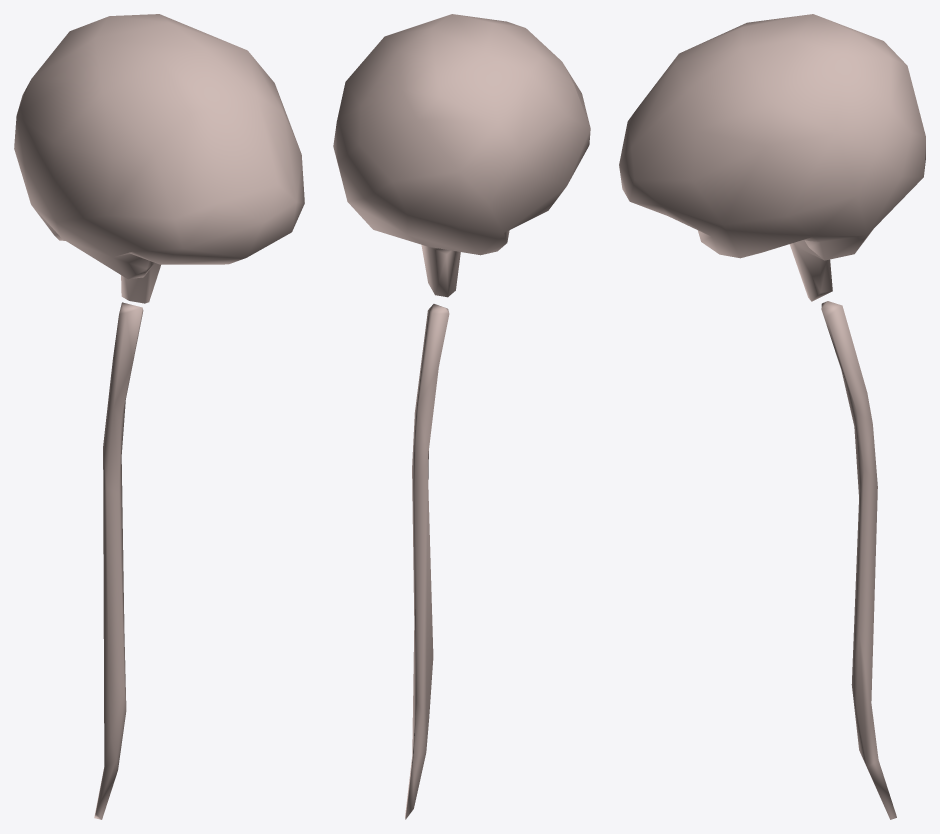
The model's file is pediatric_neonate_female.nervous.LOD3.glb.
The picture shows the model from 3 angles, left to right: view 1: azimuth 30°, elevation 25°; view 2: azimuth 150°, elevation 25°; view 3: azimuth 270°, elevation 25°; orthographic projection. The views are drawn at different scales.
Visible parts, largest first — view 1: PEDIATRIC.NEONATE.FEMALE.NERVOUS.BRAIN, PEDIATRIC.NEONATE.FEMALE.NERVOUS.SPINAL_CORD; view 2: PEDIATRIC.NEONATE.FEMALE.NERVOUS.BRAIN, PEDIATRIC.NEONATE.FEMALE.NERVOUS.SPINAL_CORD; view 3: PEDIATRIC.NEONATE.FEMALE.NERVOUS.BRAIN, PEDIATRIC.NEONATE.FEMALE.NERVOUS.SPINAL_CORD.
Part boxes in pixels (x1,y1,x2,y2): PEDIATRIC.NEONATE.FEMALE.NERVOUS.BRAIN: (14, 14, 304, 303); PEDIATRIC.NEONATE.FEMALE.NERVOUS.SPINAL_CORD: (94, 302, 143, 819); PEDIATRIC.NEONATE.FEMALE.NERVOUS.BRAIN: (333, 14, 590, 297); PEDIATRIC.NEONATE.FEMALE.NERVOUS.SPINAL_CORD: (405, 304, 449, 819); PEDIATRIC.NEONATE.FEMALE.NERVOUS.BRAIN: (619, 14, 925, 301); PEDIATRIC.NEONATE.FEMALE.NERVOUS.SPINAL_CORD: (821, 301, 896, 819).
Size of the model in its own units: 0.0866 by 0.3017 by 0.1064.
